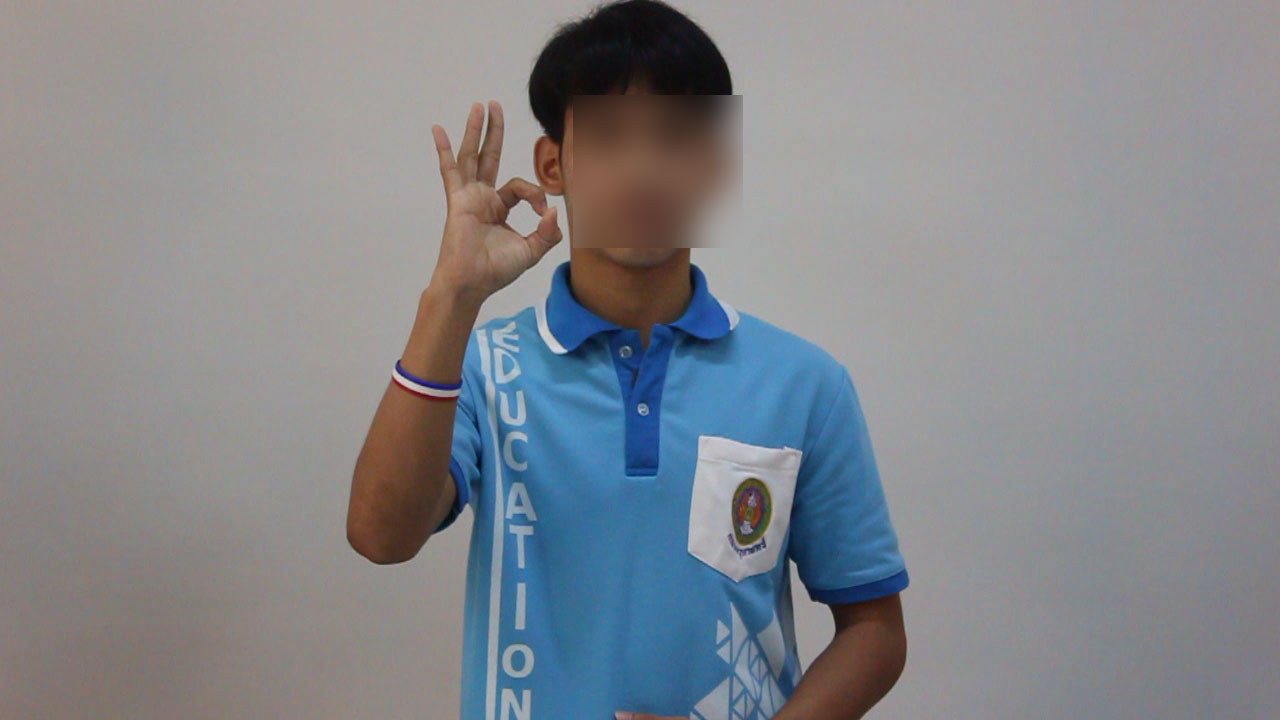for: (407, 90, 570, 312)
